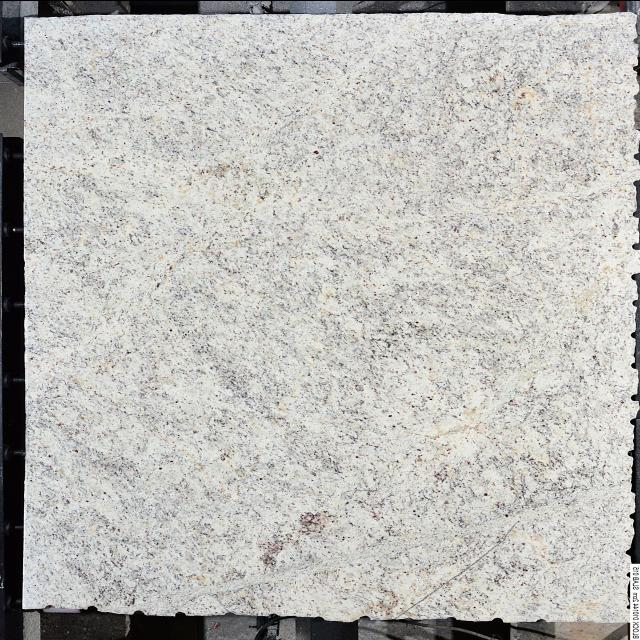chapa: (24, 11, 636, 621)
veio: (352, 612, 374, 622), (170, 608, 188, 618), (627, 392, 640, 404), (130, 608, 148, 616), (491, 616, 507, 624), (222, 609, 238, 617), (86, 604, 102, 612), (631, 270, 640, 283), (534, 616, 550, 623), (629, 241, 640, 251), (631, 178, 640, 188)
